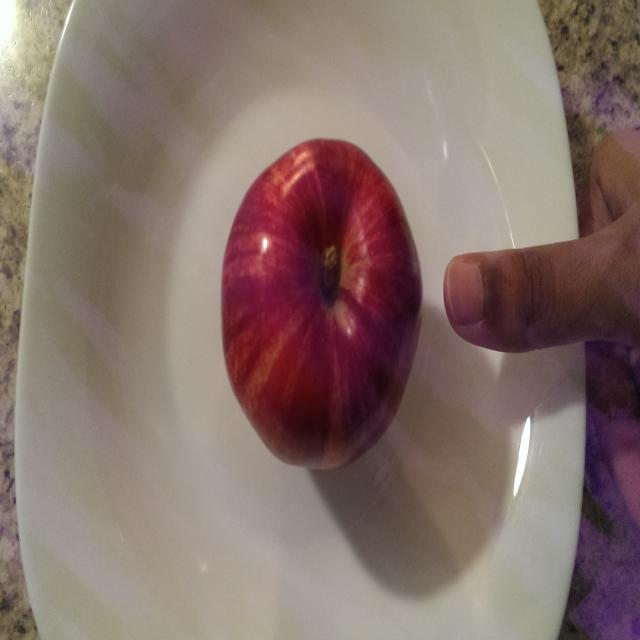apple: (214, 129, 427, 486)
